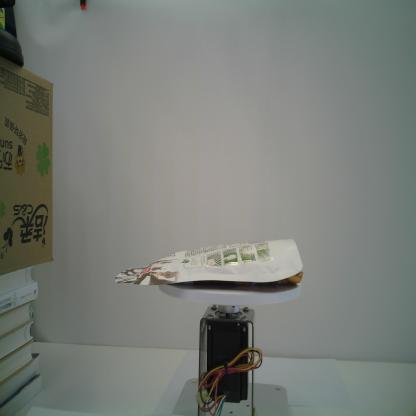Dried Fruit: (113, 237, 304, 287)
